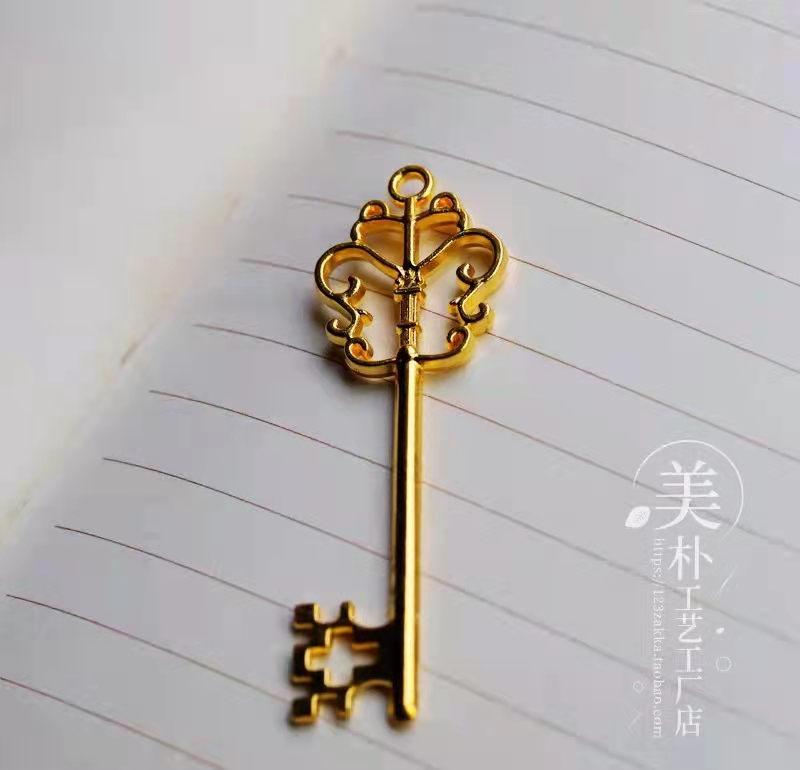key: (282, 157, 505, 733)
